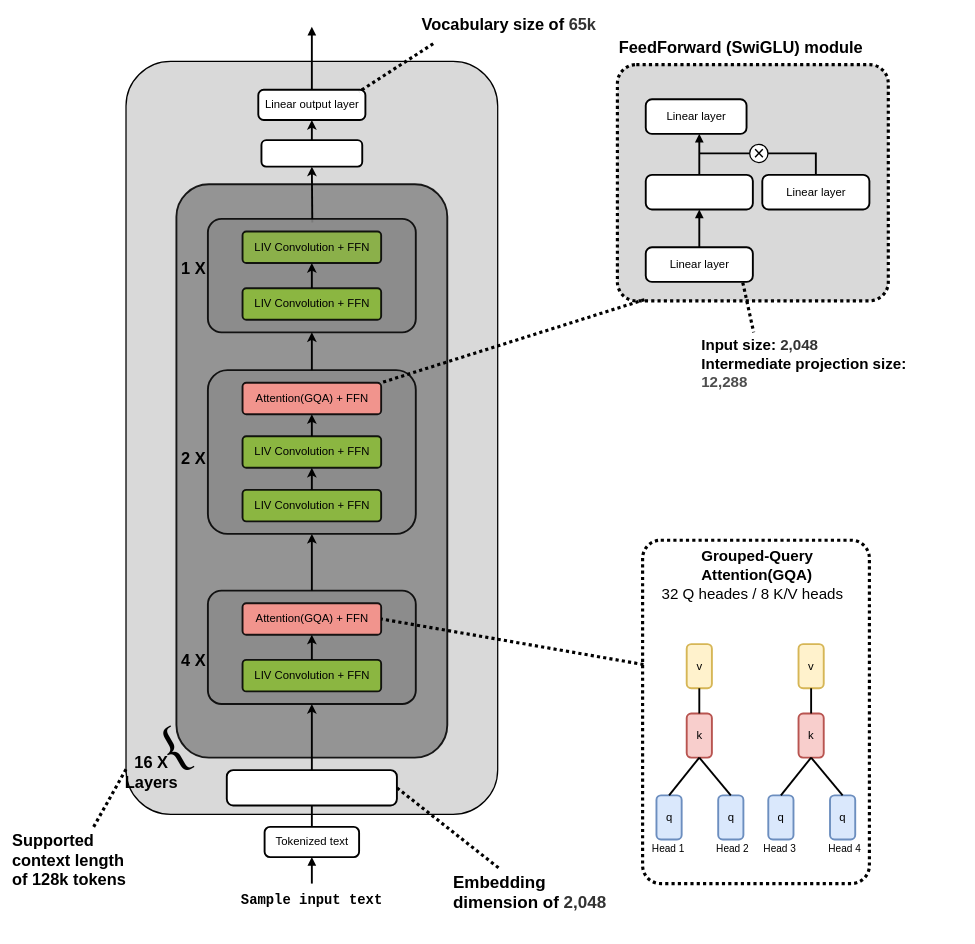
Image size: 975x944. Some labels were removed from this diagram. Each missing label, with the centre of its shape:
Final RMSNorm: point 311,153
SiLU activation: point 698,192
Token embedding layer: point 312,787
